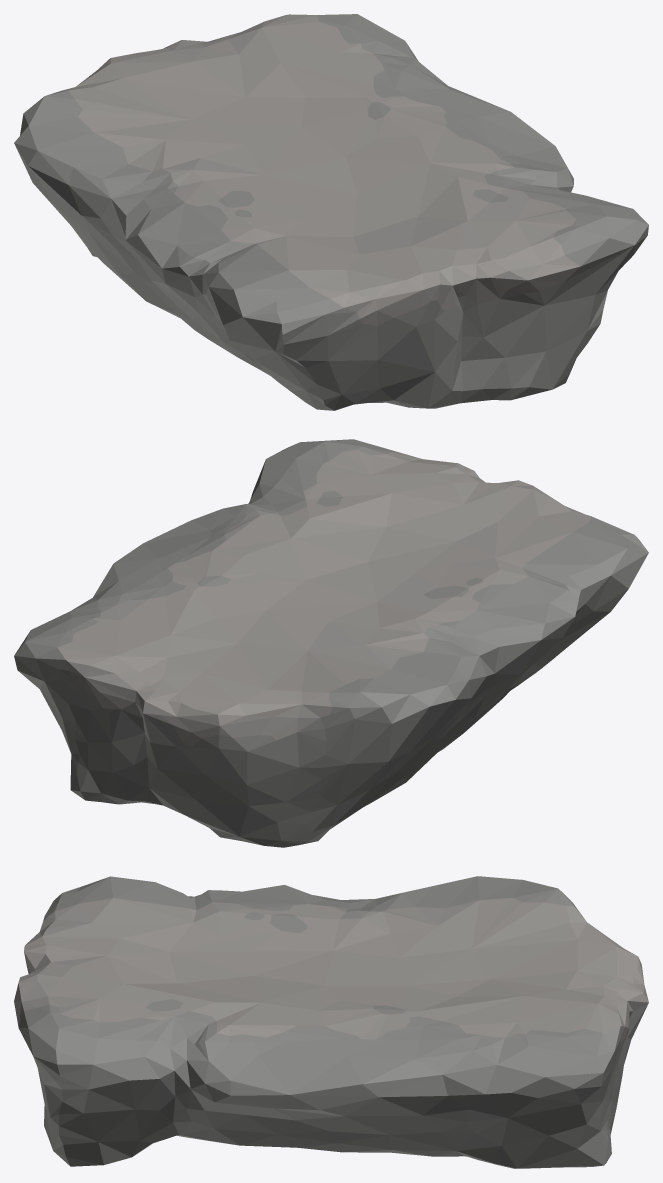
Rendered from Cavern_Floor_Wide_Straight-01.fbx.
3 views of the same model, one above another, from view 1: azimuth 30°, elevation 25°; view 2: azimuth 150°, elevation 25°; view 3: azimuth 270°, elevation 25° (orthographic). The views are drawn at different scales.
Parts seen in each view (by area): view 1: Cavern_Floor_Wide_Straight-01; view 2: Cavern_Floor_Wide_Straight-01; view 3: Cavern_Floor_Wide_Straight-01.
Part boxes in pixels (box(x1,y1,x2,y2)): Cavern_Floor_Wide_Straight-01: box(14, 14, 648, 410); Cavern_Floor_Wide_Straight-01: box(14, 439, 648, 847); Cavern_Floor_Wide_Straight-01: box(14, 876, 648, 1168).
Bounding box in the file's own units: 1332 × 519 × 1799.
1 material, 1 textured.
